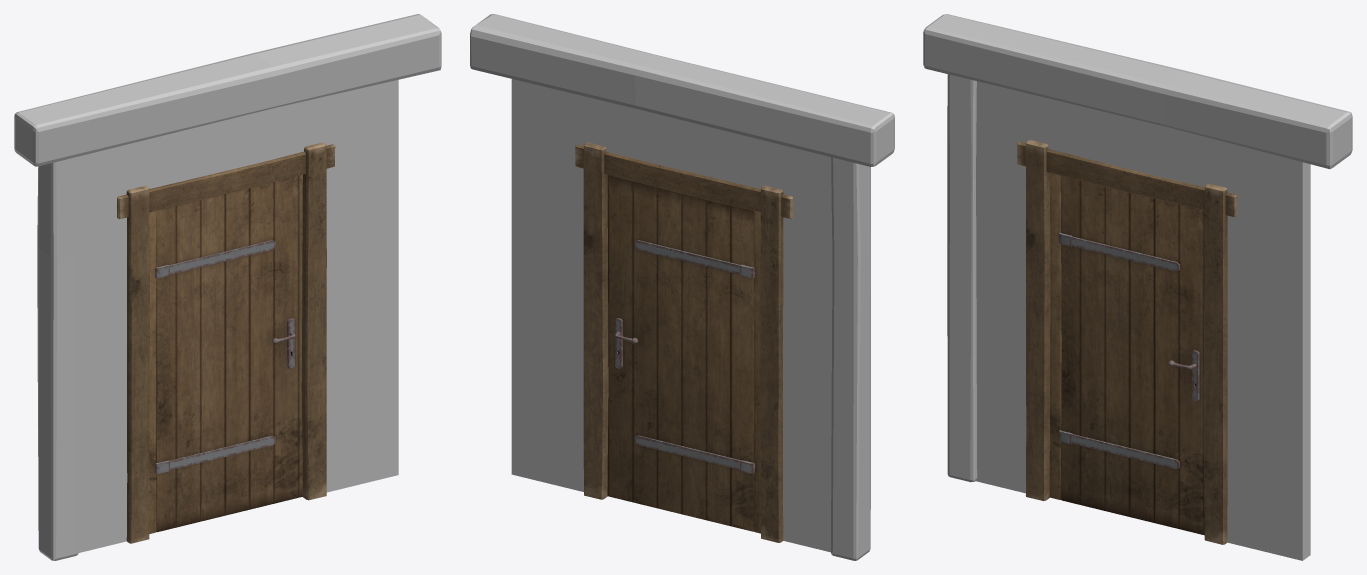
File: SM_WallElement_11.FBX
The picture shows the model from 3 angles, left to right: view 1: azimuth 30°, elevation 25°; view 2: azimuth 150°, elevation 25°; view 3: azimuth 330°, elevation 25°; orthographic projection.
Visible parts, largest first — view 1: SM_WallElement_11, SM_Door_01; view 2: SM_WallElement_11, SM_Door_01; view 3: SM_WallElement_11, SM_Door_01.
Part boxes in pixels (<box>): SM_WallElement_11: <box>14,14,441,560</box>; SM_Door_01: <box>155,174,302,532</box>; SM_WallElement_11: <box>470,14,894,560</box>; SM_Door_01: <box>607,175,754,531</box>; SM_WallElement_11: <box>923,14,1352,560</box>; SM_Door_01: <box>1059,176,1204,535</box>.
Size of the model in its own units: 3.01 by 3.15 by 0.3133.
